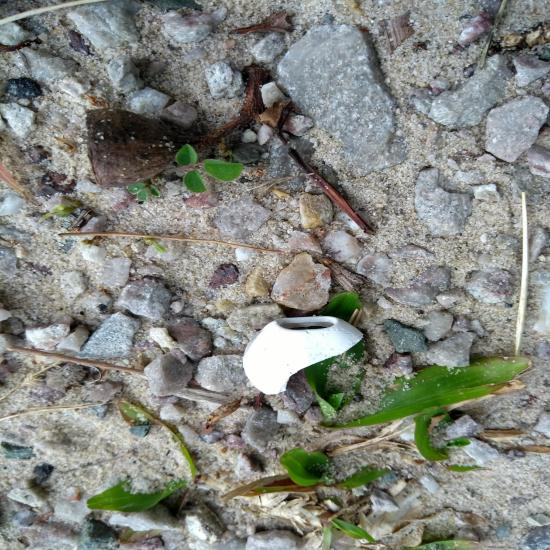Other plastic: (173, 269, 310, 342)
